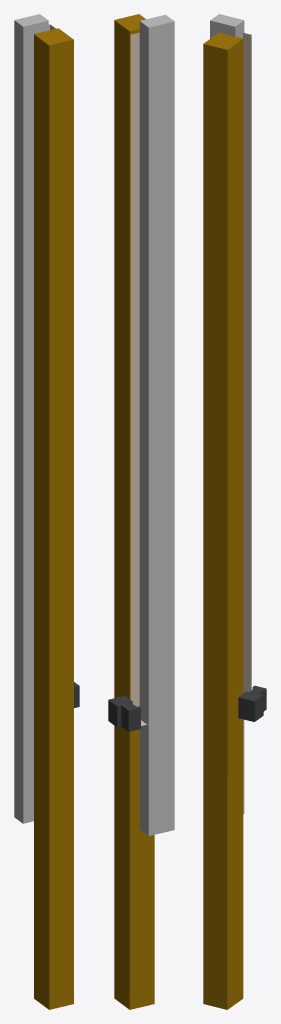
3 views of the same model, side by side, from view 1: azimuth 30°, elevation 25°; view 2: azimuth 210°, elevation 25°; view 3: azimuth 330°, elevation 25° (orthographic).
Size of the model in its own units: 0.2072 by 3.79 by 0.19.
